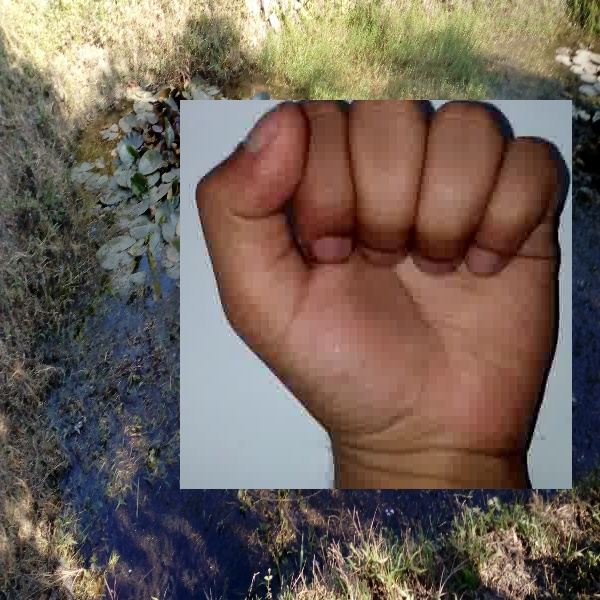A: (180, 100, 572, 489)
